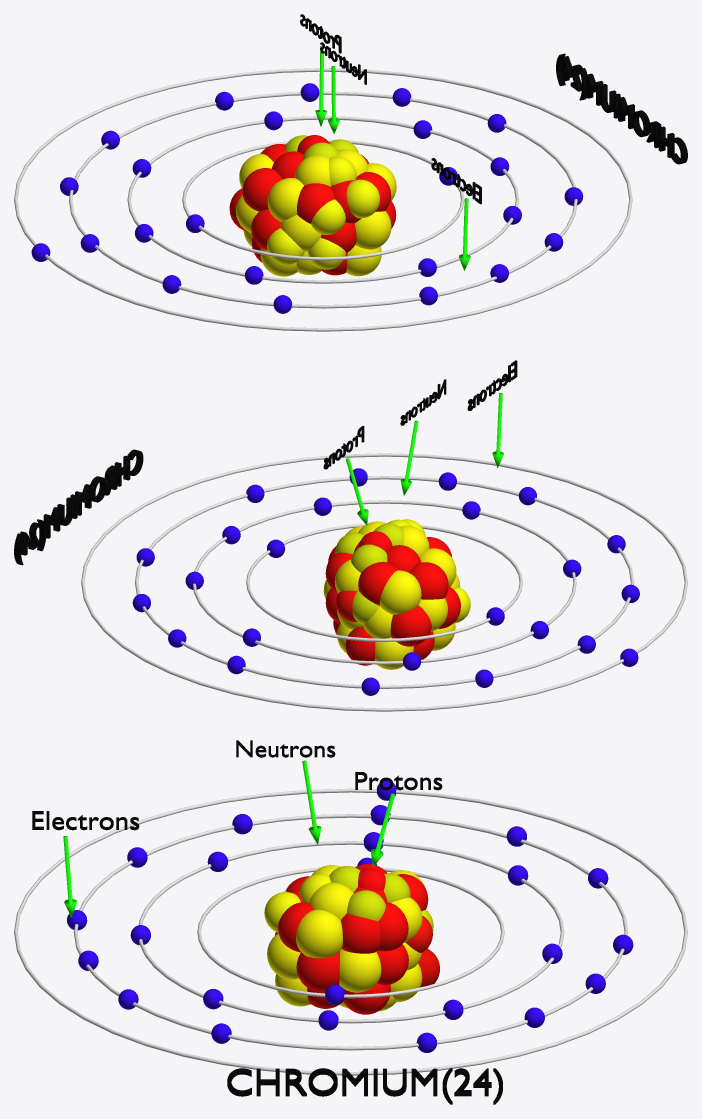
The model's file is Chormium Atomic Model.gltf.
The picture shows the model from 3 angles, top to bottom: view 1: azimuth 30°, elevation 25°; view 2: azimuth 150°, elevation 25°; view 3: azimuth 270°, elevation 25°; orthographic projection. The views are drawn at different scales.
Visible parts, largest first — view 1: Sphere.038, Torus.003, Torus.002, Text.003, Torus.001, Torus, Text, Text.001; view 2: Sphere.038, Torus.003, Torus.002, Text.003, Torus.001, Torus, Text; view 3: Sphere.038, Torus.003, Torus.002, Text.003, Torus.001, Torus, Text, Text.001, Text.002.
Boxes of the visible parts, x1=… form: Sphere.038: x1=229, y1=135, x2=396, y2=276; Torus.003: x1=14, y1=68, x2=632, y2=331; Torus.002: x1=69, y1=91, x2=577, y2=308; Text.003: x1=556, y1=53, x2=687, y2=164; Torus.001: x1=127, y1=116, x2=518, y2=283; Torus: x1=182, y1=139, x2=464, y2=260; Text: x1=431, y1=158, x2=481, y2=204; Text.001: x1=320, y1=42, x2=366, y2=84; Sphere.038: x1=323, y1=519, x2=470, y2=669; Torus.003: x1=81, y1=453, x2=687, y2=711; Torus.002: x1=135, y1=476, x2=634, y2=688; Text.003: x1=14, y1=449, x2=143, y2=565; Torus.001: x1=193, y1=500, x2=576, y2=664; Torus: x1=246, y1=523, x2=522, y2=641; Text: x1=467, y1=360, x2=517, y2=410; Sphere.038: x1=264, y1=864, x2=439, y2=1014; Torus.003: x1=14, y1=788, x2=687, y2=1075; Torus.002: x1=73, y1=814, x2=628, y2=1050; Text.003: x1=227, y1=1068, x2=502, y2=1104; Torus.001: x1=138, y1=841, x2=564, y2=1023; Torus: x1=197, y1=866, x2=504, y2=998; Text: x1=32, y1=811, x2=139, y2=830; Text.001: x1=236, y1=740, x2=335, y2=757; Text.002: x1=355, y1=772, x2=442, y2=790.
Bounding box in the file's own units: 3.97 × 1.55 × 3.66.
